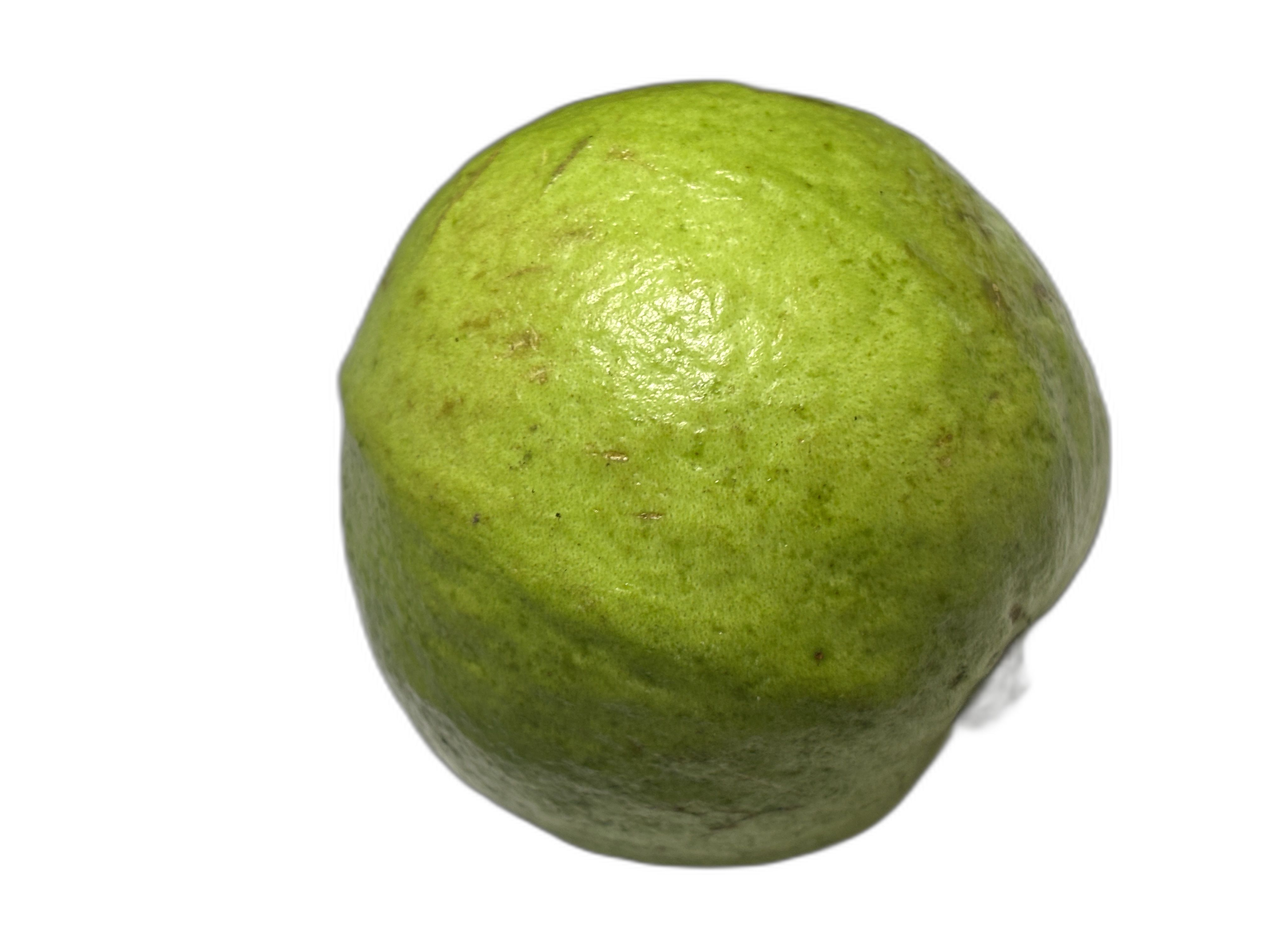guava: (145, 108, 1269, 716)
